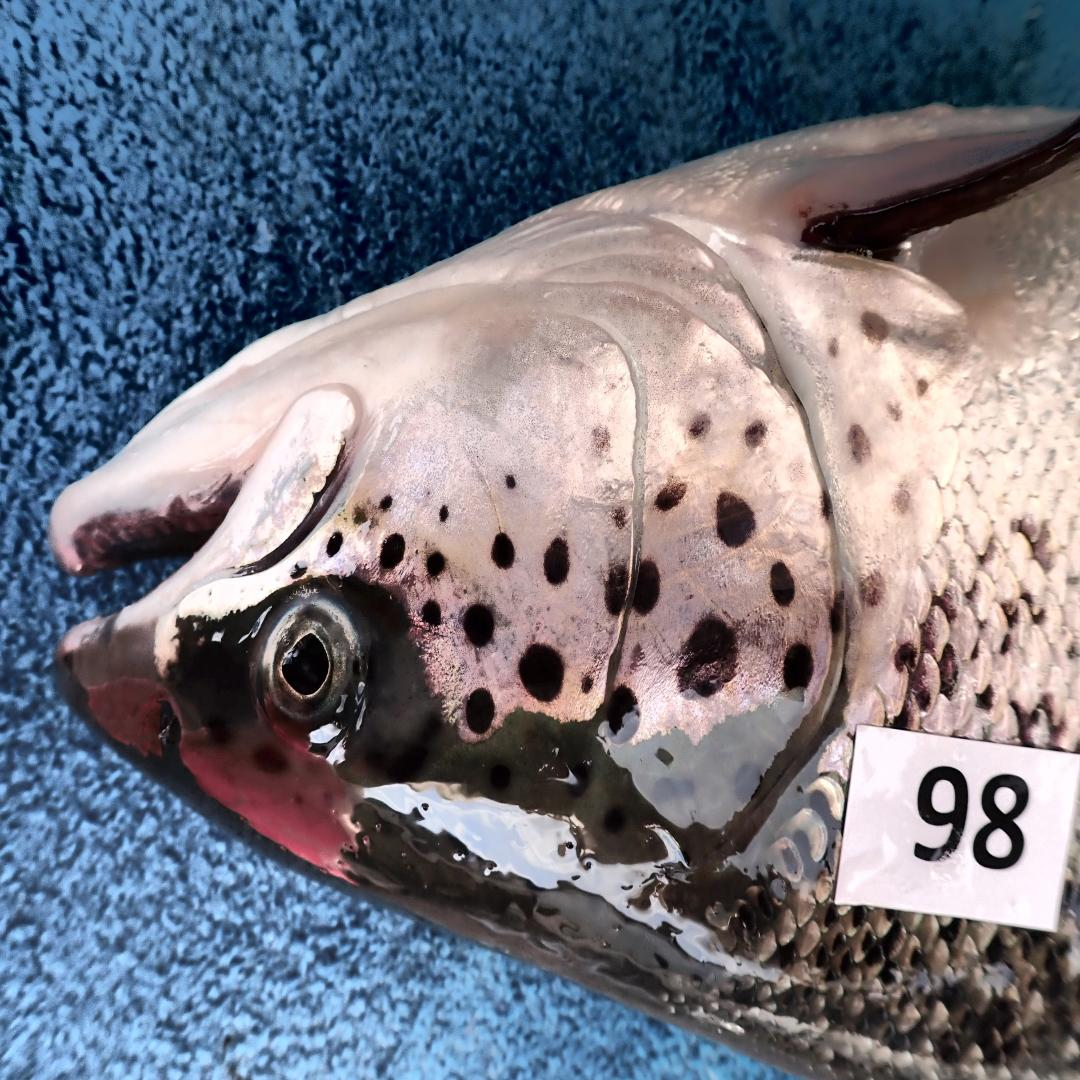spot: (677, 616, 738, 698), (519, 644, 563, 703), (608, 686, 644, 749), (717, 492, 755, 548), (633, 560, 660, 616), (603, 562, 629, 616), (783, 644, 814, 689), (466, 689, 496, 734), (464, 605, 494, 647), (544, 537, 570, 585), (770, 562, 795, 608), (654, 478, 686, 512), (491, 532, 515, 568), (380, 534, 405, 568), (829, 591, 846, 636), (626, 641, 645, 675), (745, 419, 768, 447), (688, 413, 711, 439), (593, 425, 612, 456), (426, 551, 445, 577), (422, 599, 441, 624), (327, 532, 344, 557), (821, 489, 833, 520), (290, 560, 307, 579), (612, 506, 626, 529), (352, 506, 367, 526), (582, 675, 593, 695), (380, 495, 392, 512), (506, 475, 517, 489), (439, 506, 447, 520)
